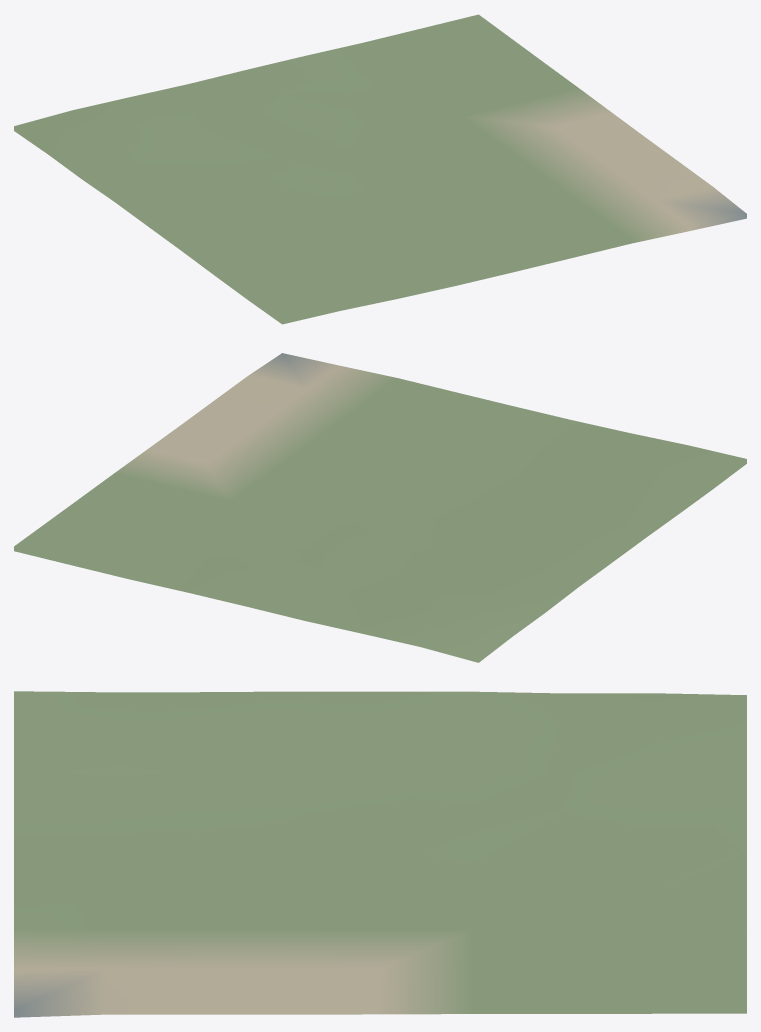
3 views of the same model, one above another, from view 1: azimuth 30°, elevation 25°; view 2: azimuth 150°, elevation 25°; view 3: azimuth 270°, elevation 25° (orthographic). The views are drawn at different scales.
Parts seen in each view (by area): view 1: prim0; view 2: prim0; view 3: prim0.
Part boxes in pixels (x1,y1,x2,y2): prim0: (14,14,746,324); prim0: (14,353,746,662); prim0: (14,691,746,1017).
Size of the model in its own units: 512 by 13.22 by 512.
